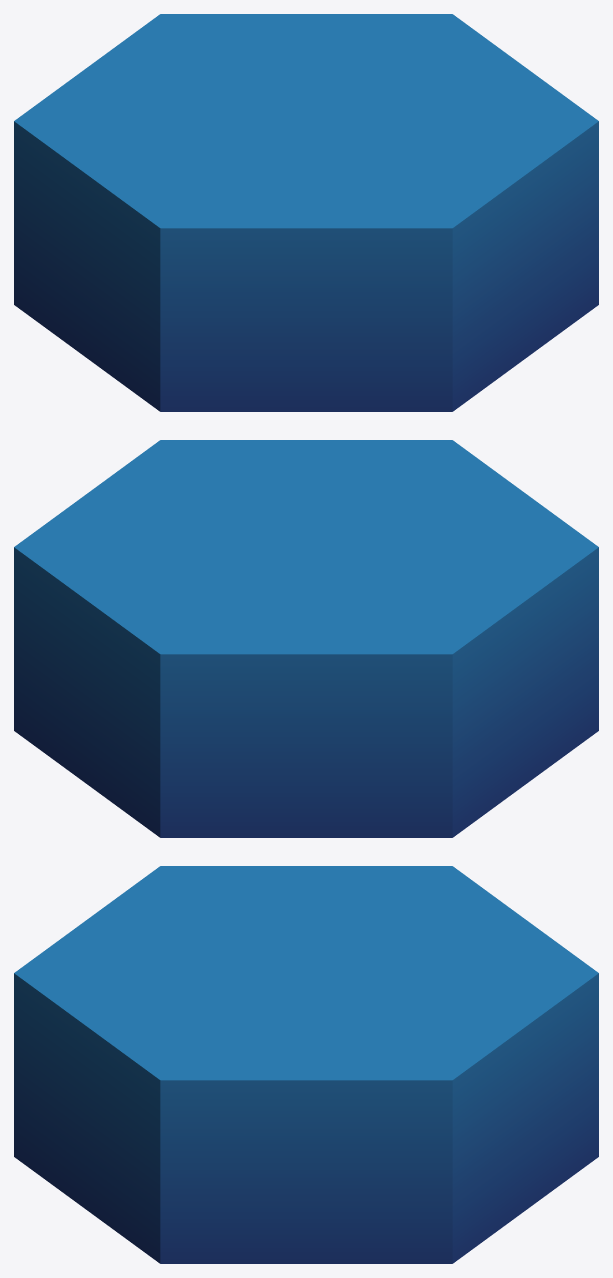
Rendered from hex_water.gltf.
The picture shows the model from 3 angles, top to bottom: view 1: azimuth 30°, elevation 25°; view 2: azimuth 150°, elevation 25°; view 3: azimuth 270°, elevation 25°; orthographic projection.
Visible parts, largest first — view 1: hex_water; view 2: hex_water; view 3: hex_water.
Part boxes in pixels (bbox=[...]): hex_water: bbox=[14, 14, 598, 411]; hex_water: bbox=[14, 440, 598, 837]; hex_water: bbox=[14, 866, 598, 1263].
Bounding box in the file's own units: 2 × 0.8 × 2.31.
1 material, 1 textured.
